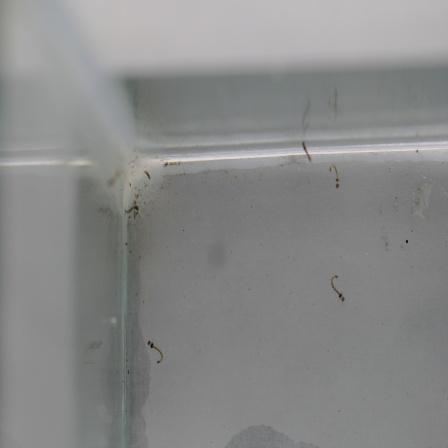Jentik-Nyamuk: (143, 336, 168, 370), (326, 269, 349, 305), (323, 161, 346, 193)
